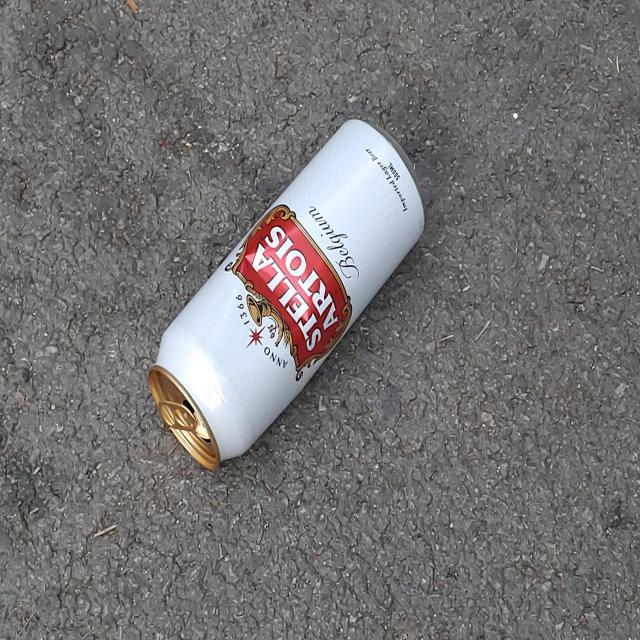can: (148, 119, 424, 469)
